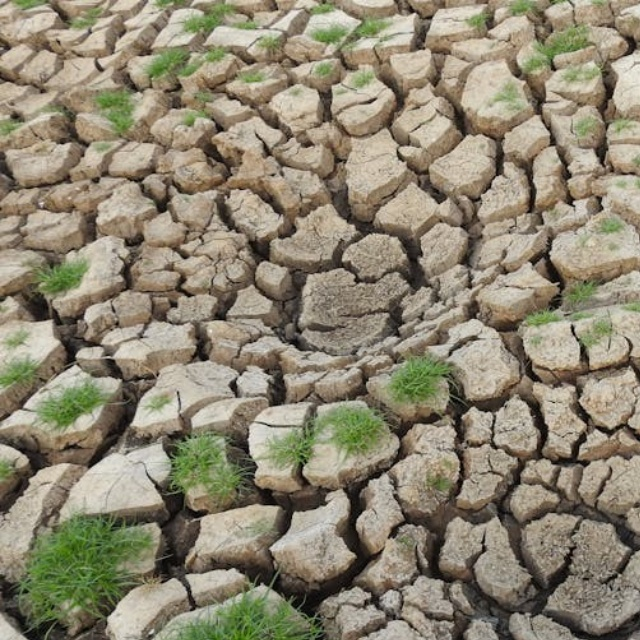细微裂纹: (157, 12, 640, 584), (431, 50, 640, 505)
网状裂隙: (0, 0, 640, 639), (59, 119, 640, 640), (197, 21, 640, 576), (4, 232, 431, 640), (330, 7, 640, 545), (456, 55, 640, 503), (457, 28, 606, 391)
